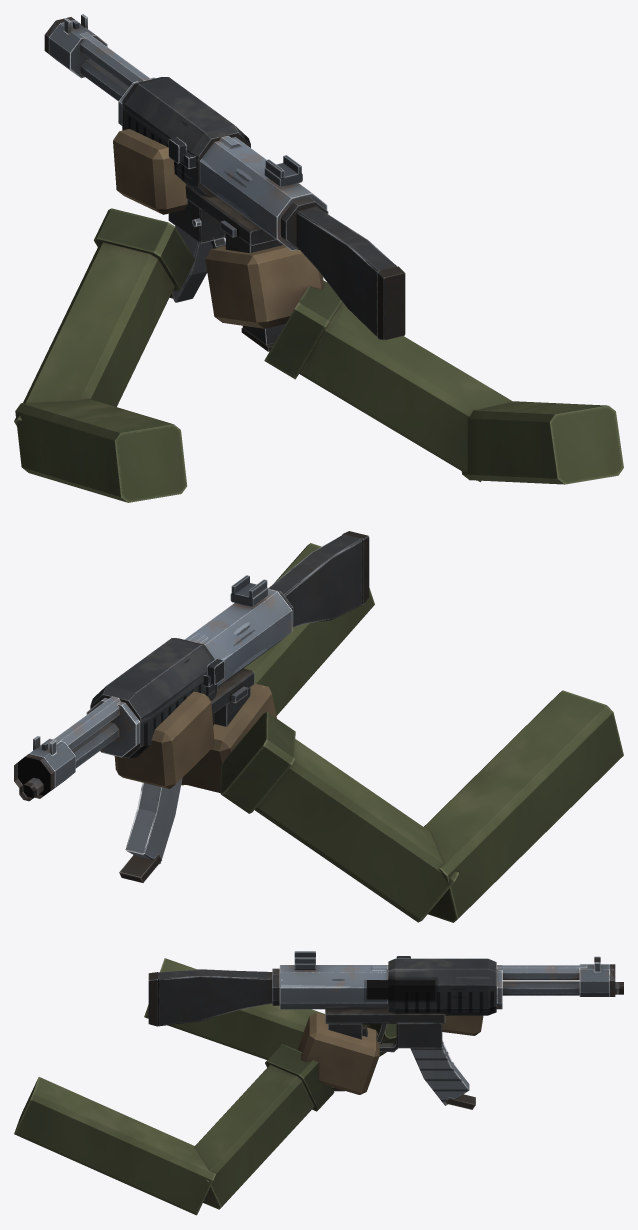
File: Subfusil_VM.glb
3 views of the same model, one above another, from view 1: azimuth 30°, elevation 25°; view 2: azimuth 150°, elevation 25°; view 3: azimuth 270°, elevation 25° (orthographic). The views are drawn at different scales.
Parts seen in each view (by area): view 1: Cuerpo_VM.001, RightLowerArm.001, LeftLowerArm.001, LeftUpperArm.001, RightUpperArm.001, RightHand.001, LeftHand.001, Cargador_VM.001; view 2: Cuerpo_VM.001, LeftLowerArm.001, LeftUpperArm.001, RightUpperArm.001, LeftHand.001, Cargador_VM.001, RightHand.001; view 3: Cuerpo_VM.001, RightUpperArm.001, RightLowerArm.001, LeftUpperArm.001, RightHand.001, Cargador_VM.001, LeftHand.001, LeftLowerArm.001.
Boxes of the visible parts, bbox=[...] form: Cuerpo_VM.001: bbox=[44, 14, 405, 351]; RightLowerArm.001: bbox=[264, 280, 512, 482]; LeftLowerArm.001: bbox=[14, 208, 194, 425]; LeftUpperArm.001: bbox=[15, 399, 187, 502]; RightUpperArm.001: bbox=[461, 401, 623, 484]; RightHand.001: bbox=[205, 245, 323, 328]; LeftHand.001: bbox=[113, 129, 187, 214]; Cargador_VM.001: bbox=[169, 225, 213, 302]; Cuerpo_VM.001: bbox=[14, 531, 369, 801]; LeftLowerArm.001: bbox=[220, 712, 458, 922]; LeftUpperArm.001: bbox=[424, 690, 623, 922]; RightUpperArm.001: bbox=[244, 543, 374, 715]; LeftHand.001: bbox=[114, 691, 214, 788]; Cargador_VM.001: bbox=[119, 778, 182, 882]; RightHand.001: bbox=[181, 683, 276, 792]; Cuerpo_VM.001: bbox=[148, 951, 623, 1091]; RightUpperArm.001: bbox=[14, 1077, 215, 1215]; RightLowerArm.001: bbox=[194, 1044, 334, 1209]; LeftUpperArm.001: bbox=[144, 958, 325, 1059]; RightHand.001: bbox=[297, 1012, 379, 1094]; Cargador_VM.001: bbox=[410, 1040, 475, 1109]; LeftHand.001: bbox=[442, 1015, 483, 1035]; LeftLowerArm.001: bbox=[362, 1023, 396, 1056].
Bounding box in the file's own units: 2.25 × 1.41 × 3.81.
Materials: 2 (2 with a texture image).
